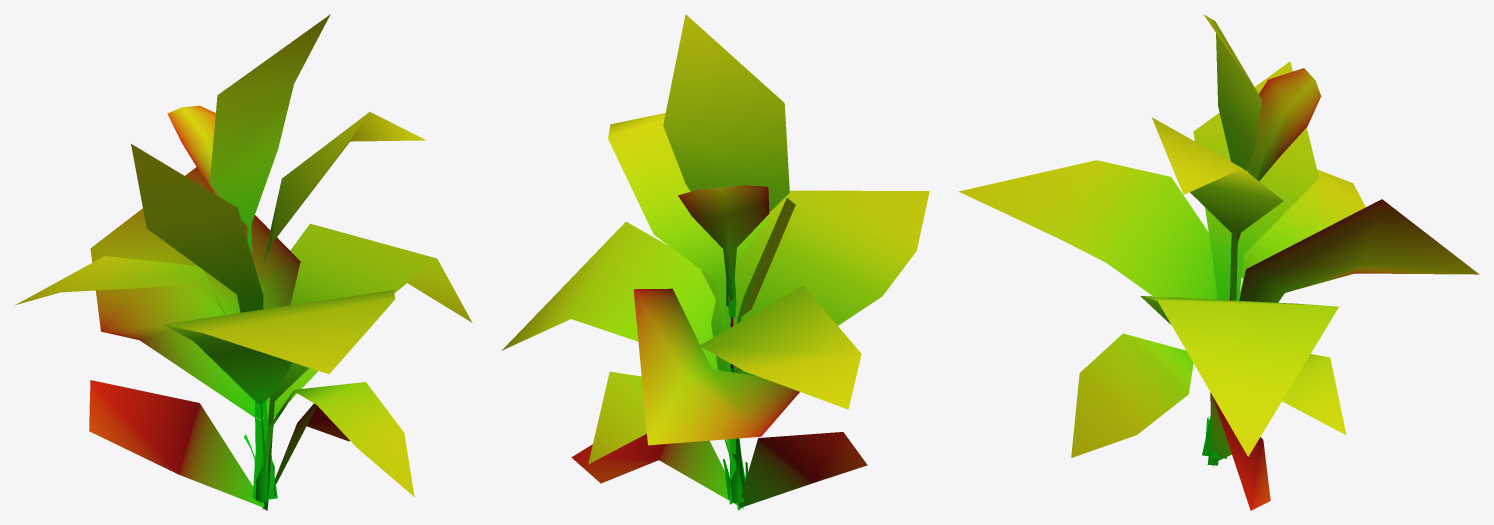
File: Cat Palm_LOD4_Var1_tjejafeia.fbx
3 renders of one model, left to right at view 1: azimuth 30°, elevation 25°; view 2: azimuth 150°, elevation 25°; view 3: azimuth 270°, elevation 25°, orthographic.
Parts seen in each view (by area): view 1: _9862_Var1_LOD4; view 2: _9862_Var1_LOD4; view 3: _9862_Var1_LOD4.
Part boxes in pixels (x1,y1,x2,y2): _9862_Var1_LOD4: (15, 14, 472, 510); _9862_Var1_LOD4: (501, 14, 929, 510); _9862_Var1_LOD4: (958, 14, 1479, 510).
Size of the model in its own units: 144 by 164 by 161.
